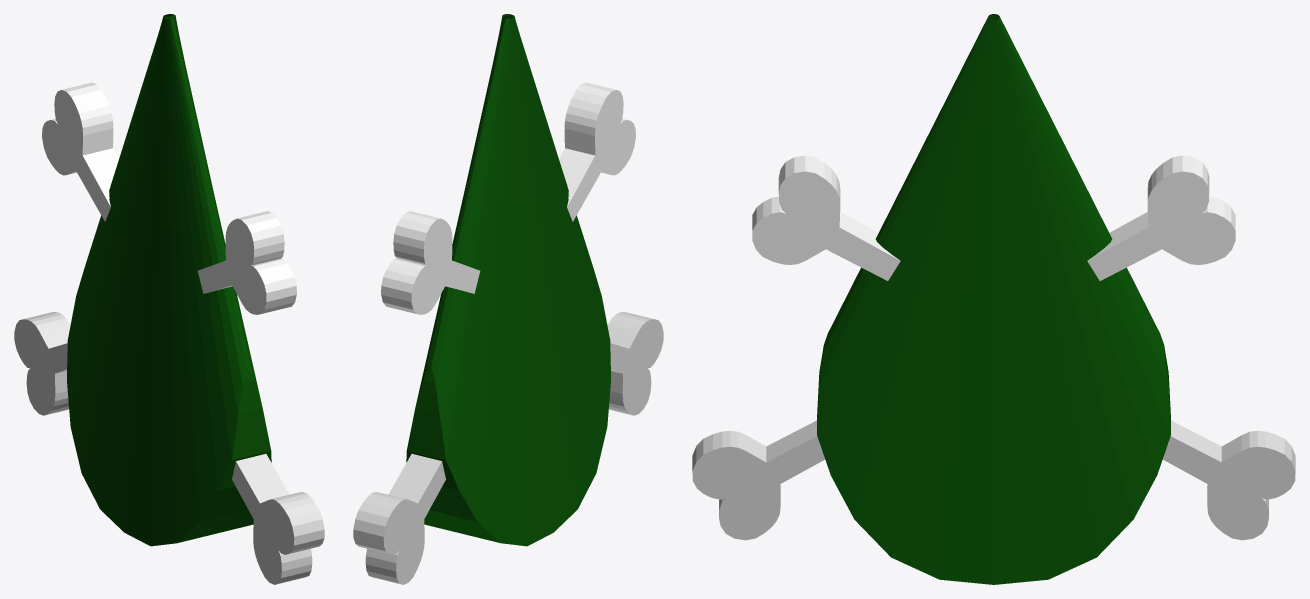
The model's file is Veneno.fbx.
3 views of the same model, side by side, from view 1: azimuth 30°, elevation 25°; view 2: azimuth 150°, elevation 25°; view 3: azimuth 270°, elevation 25° (orthographic). The views are drawn at different scales.
Visible parts, largest first — view 1: Veneno; view 2: Veneno; view 3: Veneno.
Boxes of the visible parts, x1,y1,x2,y2 form: Veneno: (14,14,324,584); Veneno: (353,14,663,584); Veneno: (692,14,1295,584).
Size of the model in its own units: 5.96 by 31.76 by 31.89.
